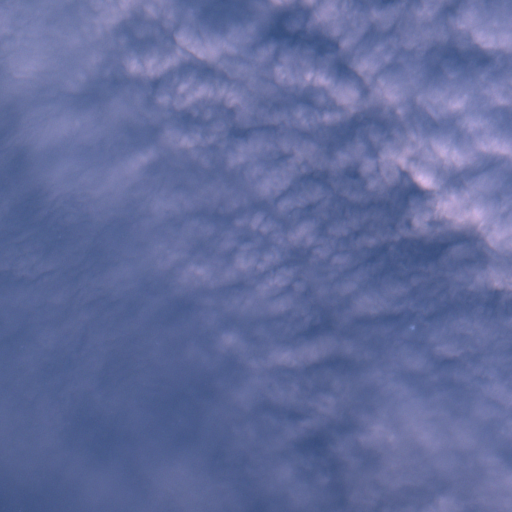Iceberg: (411, 326, 414, 329)
